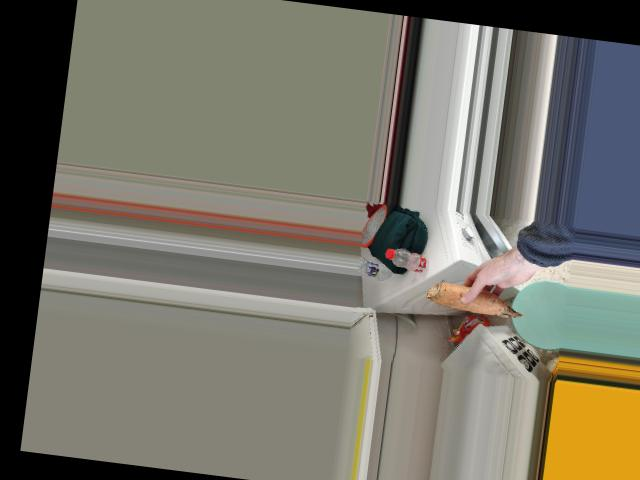sweet_potato: (431, 281, 523, 318)
